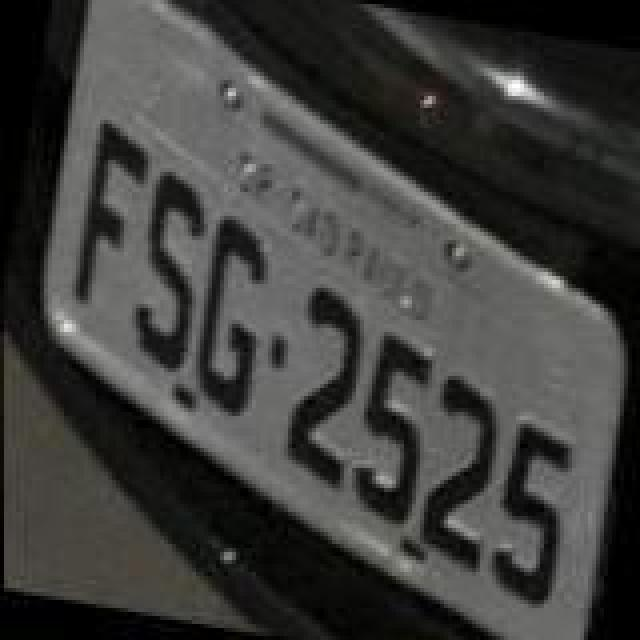2: (270, 276, 374, 492), (406, 368, 510, 576)
5: (344, 322, 444, 526), (480, 416, 580, 608)
F: (68, 116, 160, 316)
G: (186, 206, 282, 418)
S: (120, 162, 220, 374)
